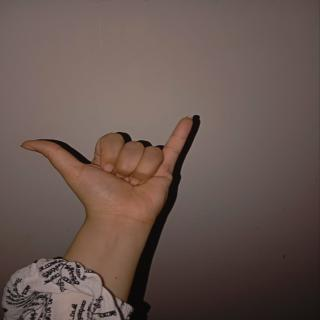YA: (6, 101, 228, 243)
